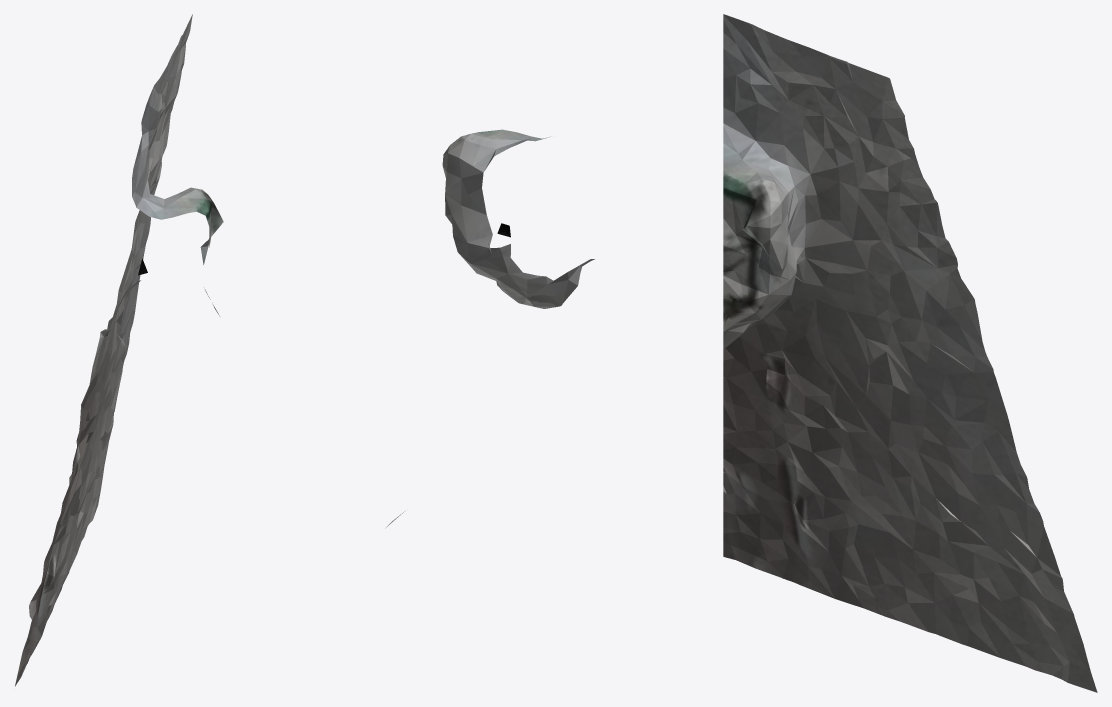
The picture shows the model from 3 angles, left to right: view 1: azimuth 30°, elevation 25°; view 2: azimuth 150°, elevation 25°; view 3: azimuth 270°, elevation 25°; orthographic projection. The views are drawn at different scales.
Size of the model in its own units: 0.3976 by 0.8374 by 0.4622.
Materials: 2 (2 with a texture image).
